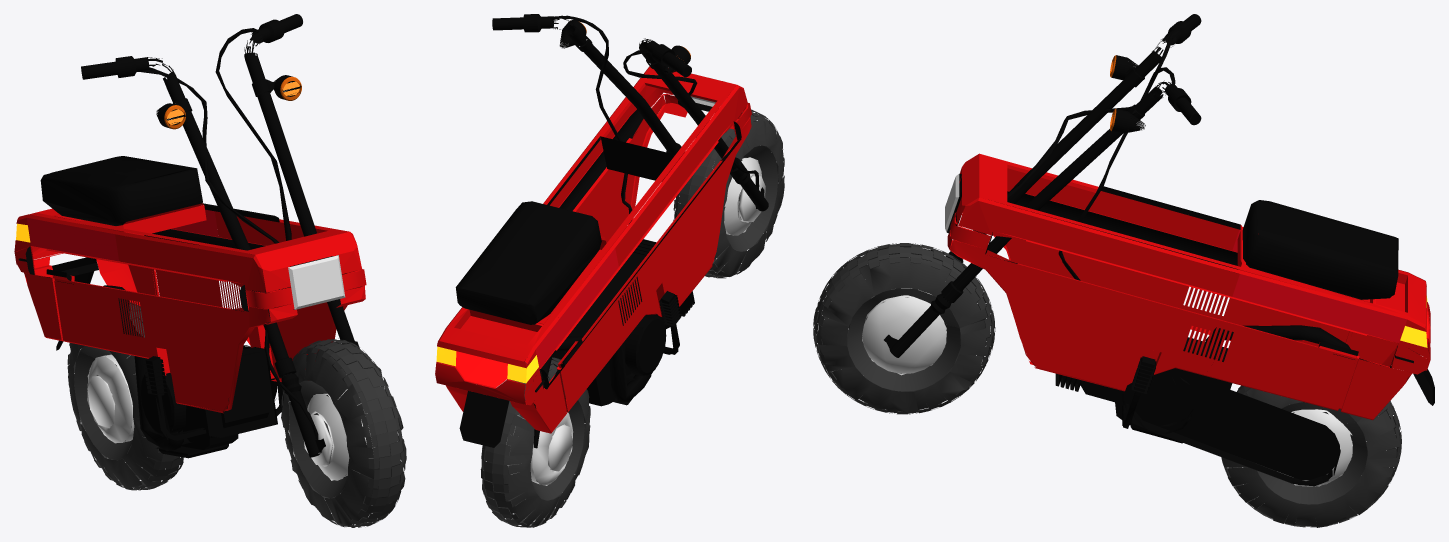
The model's file is low-poly-honda-motocompo-d159e3.glb.
3 renders of one model, left to right at view 1: azimuth 30°, elevation 25°; view 2: azimuth 150°, elevation 25°; view 3: azimuth 270°, elevation 25°, orthographic. The views are drawn at different scales.
Visible parts, largest first — view 1: PropMesh; view 2: PropMesh; view 3: PropMesh.
Part boxes in pixels (<box>): PropMesh: <box>14,14,406,527</box>; PropMesh: <box>435,14,784,527</box>; PropMesh: <box>813,14,1434,527</box>.
Size of the model in its own units: 0.4642 by 1 by 1.2.
